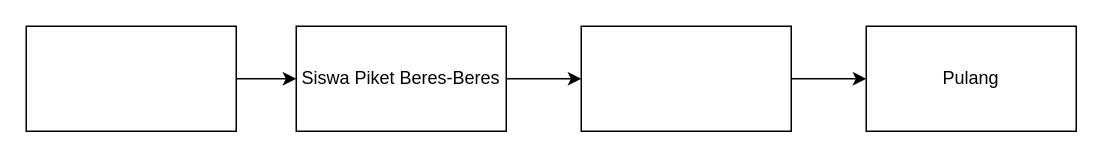
The diagram is 1103 pixels wide and 158 high, and some of its shapes have lost their labels. The centre of each missing label's shape, as x and y in pixels:
Dipastikan Kelas Sudah Bersih: [685,78]
Pulang Sekolah: [130,78]
